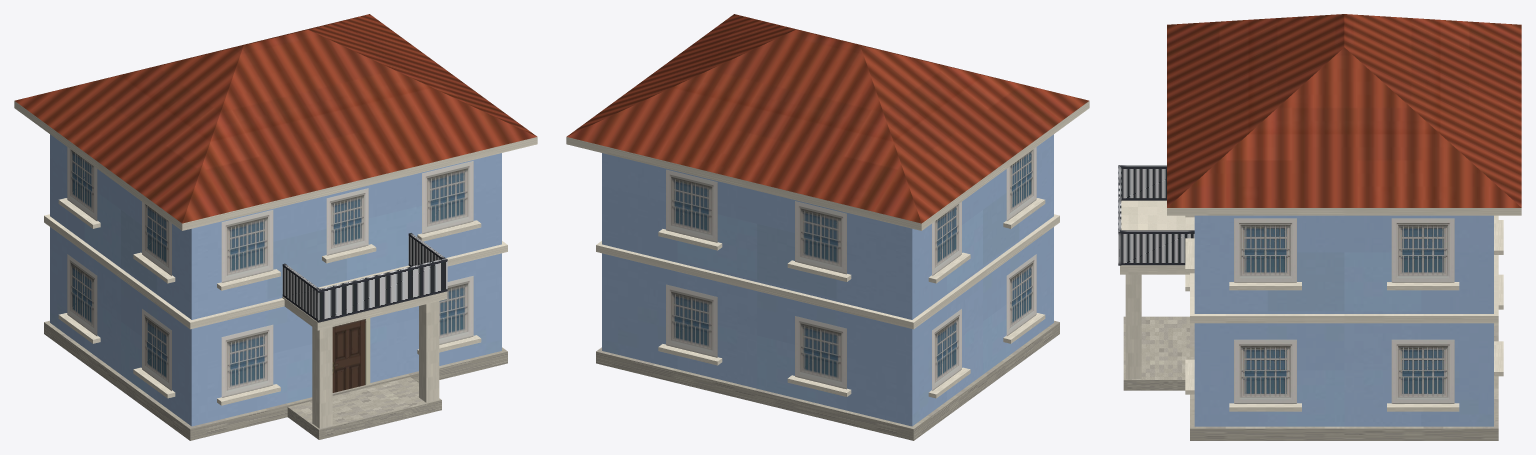
File: house2-sky.glb
3 views of the same model, side by side, from view 1: azimuth 30°, elevation 25°; view 2: azimuth 150°, elevation 25°; view 3: azimuth 270°, elevation 25° (orthographic). The views are drawn at different scales.
Visible parts, largest first — view 1: house2-sky; view 2: house2-sky; view 3: house2-sky.
Part boxes in pixels (x1=…): house2-sky: x1=14, y1=14, x2=537, y2=440; house2-sky: x1=566, y1=14, x2=1089, y2=440; house2-sky: x1=1118, y1=14, x2=1521, y2=440.
Bounding box in the file's own units: 11 × 9.2 × 10.24.
Materials: 1 (1 with a texture image).
